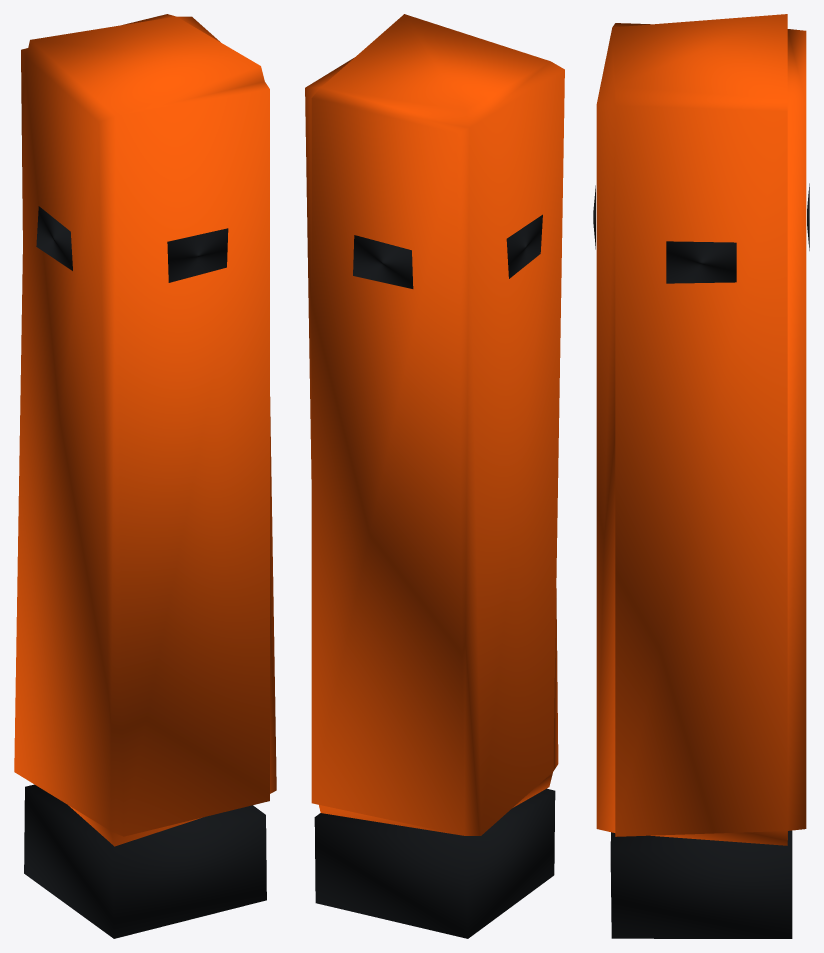
The model's file is pylon_college_lod1.glb.
3 views of the same model, side by side, from view 1: azimuth 30°, elevation 25°; view 2: azimuth 150°, elevation 25°; view 3: azimuth 270°, elevation 25° (orthographic). The views are drawn at different scales.
Parts seen in each view (by area): view 1: pylon_college__prop_orange, pylon_college__prop_black; view 2: pylon_college__prop_orange, pylon_college__prop_black; view 3: pylon_college__prop_orange, pylon_college__prop_black.
Part boxes in pixels (x1=…): pylon_college__prop_orange: x1=14, y1=14, x2=276, y2=846; pylon_college__prop_black: x1=24, y1=206, x2=266, y2=938; pylon_college__prop_orange: x1=305, y1=14, x2=564, y2=835; pylon_college__prop_black: x1=314, y1=214, x2=555, y2=938; pylon_college__prop_orange: x1=596, y1=14, x2=806, y2=845; pylon_college__prop_black: x1=593, y1=183, x2=809, y2=938.
Size of the model in its own units: 0.1049 by 0.4555 by 0.1049.
